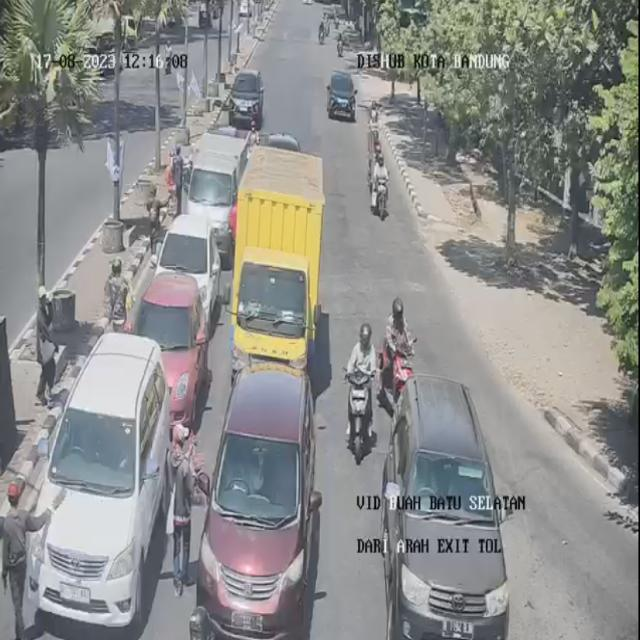cars: (26, 332, 169, 636), (190, 363, 322, 639), (381, 374, 510, 640), (134, 273, 208, 428), (186, 127, 248, 253), (156, 215, 221, 322), (229, 71, 264, 127), (327, 70, 356, 120)
motorcycle: (382, 293, 416, 418), (348, 322, 377, 461), (369, 132, 390, 221)
truck: (230, 145, 332, 395)
